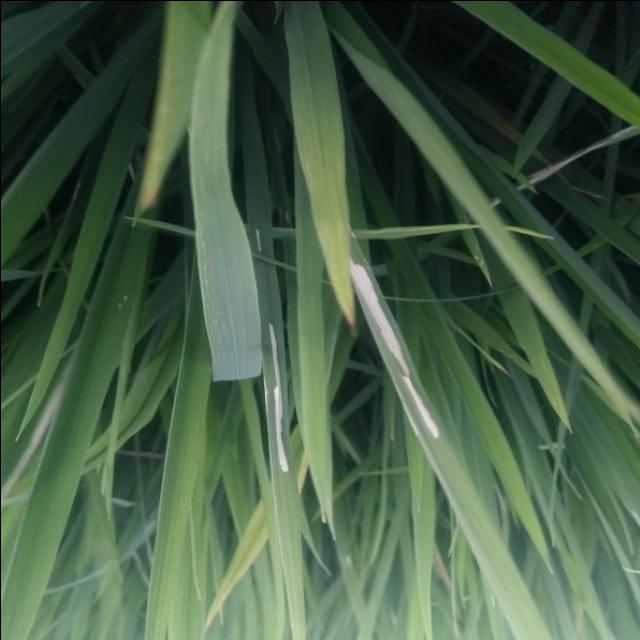Hawar Daun Bakteri: (194, 554, 267, 640)
Penggulung Daun: (333, 244, 446, 446), (488, 119, 640, 210), (252, 315, 294, 476)
